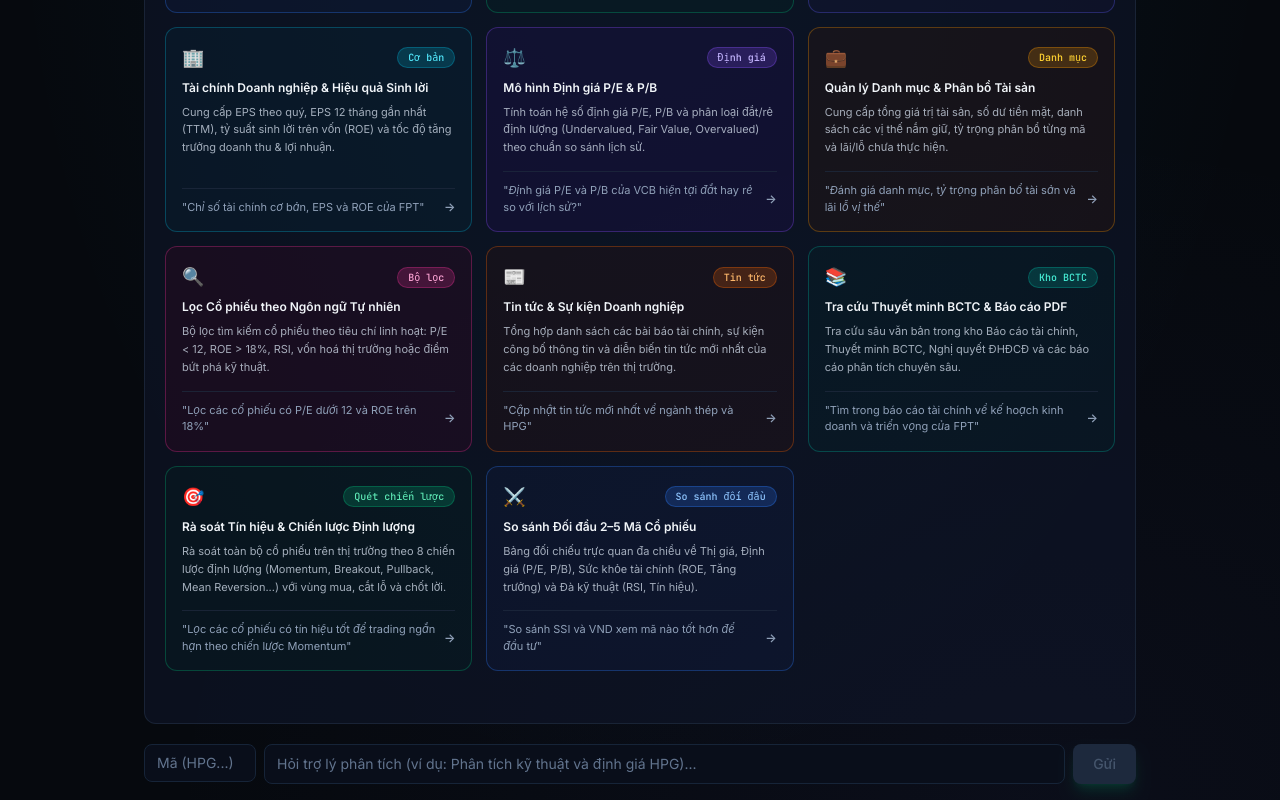
Scenario: AskAnalyst Component (User Story 1: P1) › discloses degraded mode when the answer came from offline templates (Feature 015, Q-51)
(page scrolled)
Replace the text in the field with placeholder "Hỏi trợ lý phân tích" with "Giá HPG?" at (665, 764), box [264,744,1065,784]
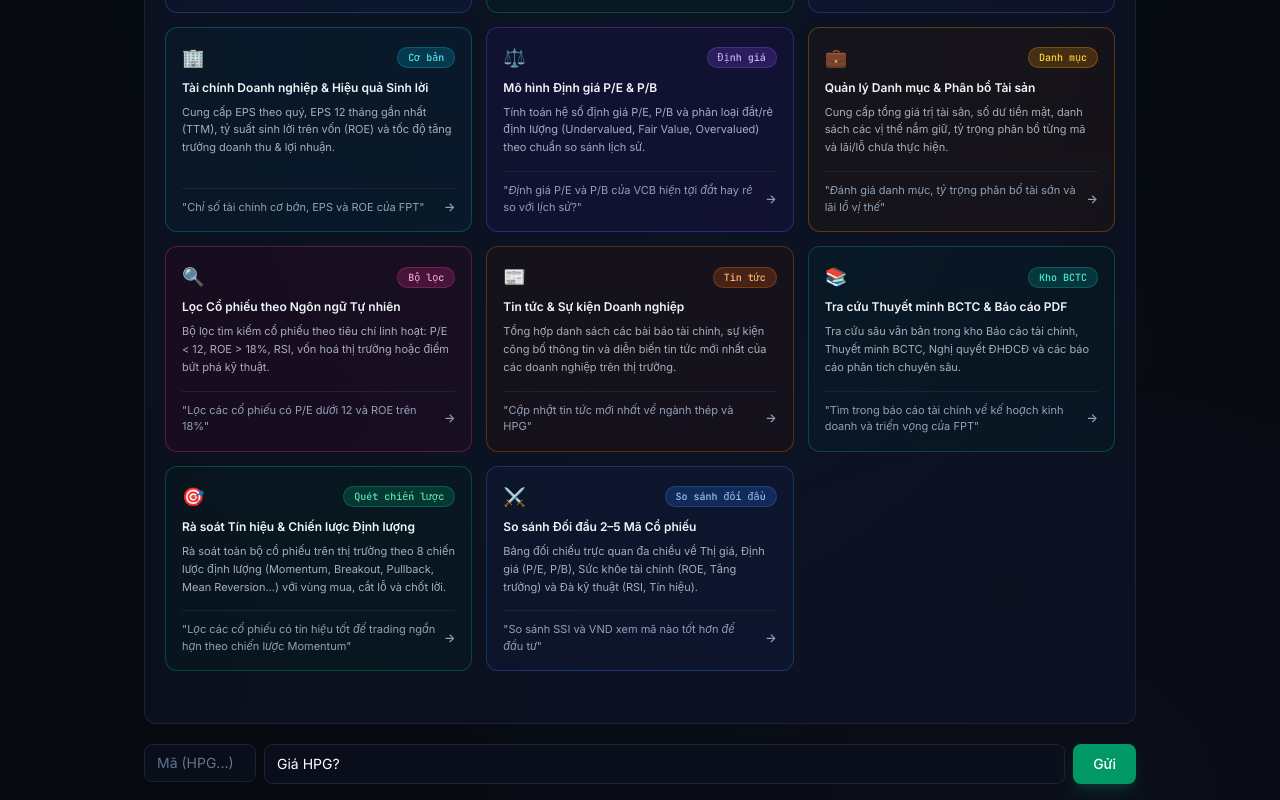
Click the button "Gửi".
click(1105, 764)  # box [1073,744,1136,784]
(page scrolled)
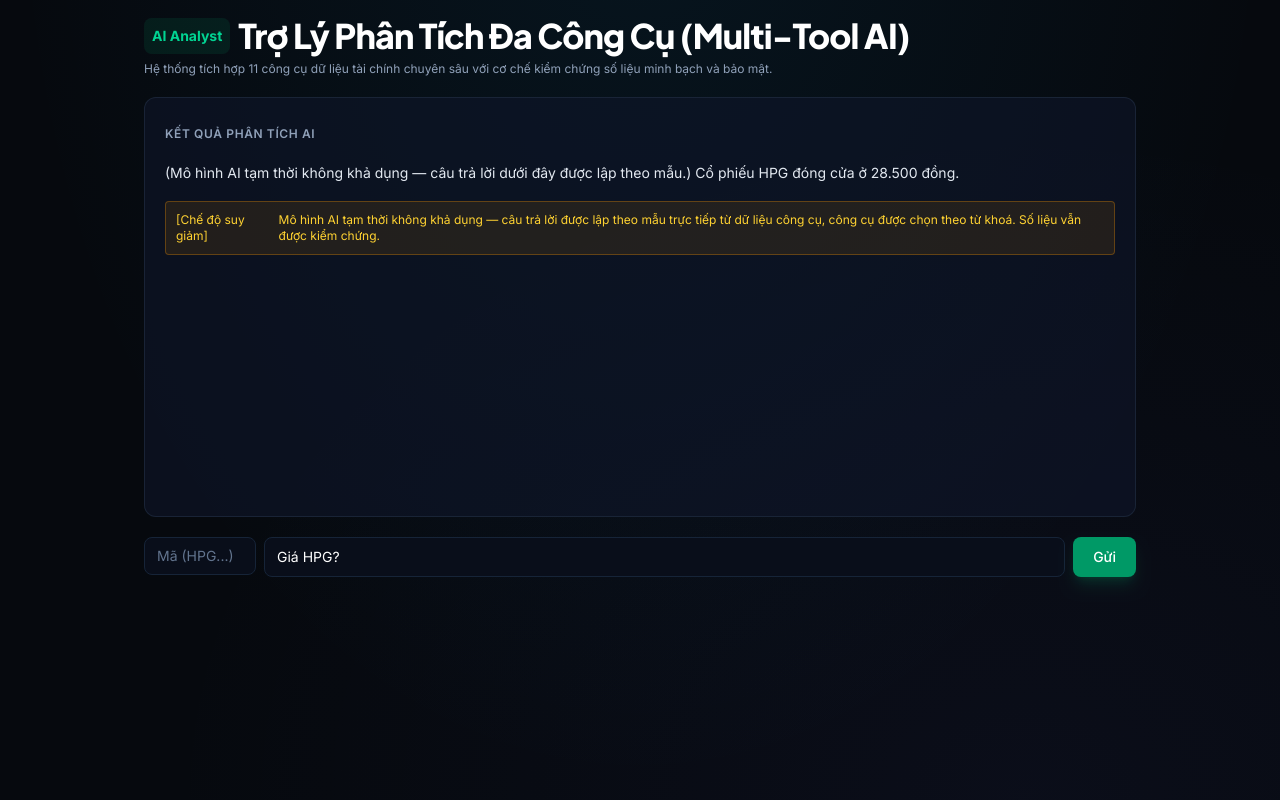
Now the text "[Chế độ suy giảm]" is shown, box [176,212,245,242]
Now the text "công cụ được chọn theo từ khoá" is shown, box [822,212,1012,226]
